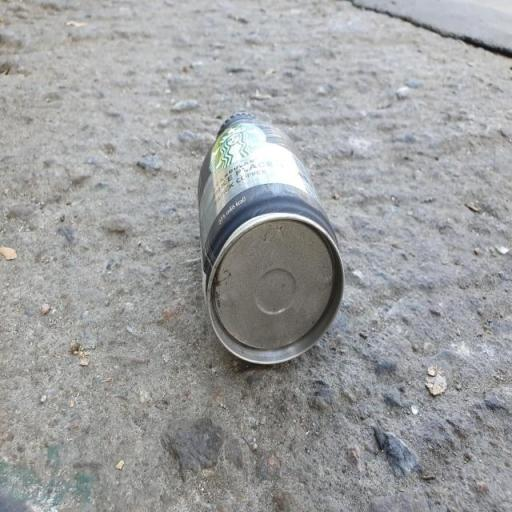metal: (193, 100, 352, 394)
